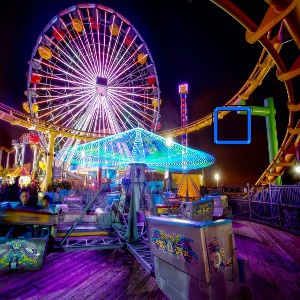square: (212, 107, 252, 145)
